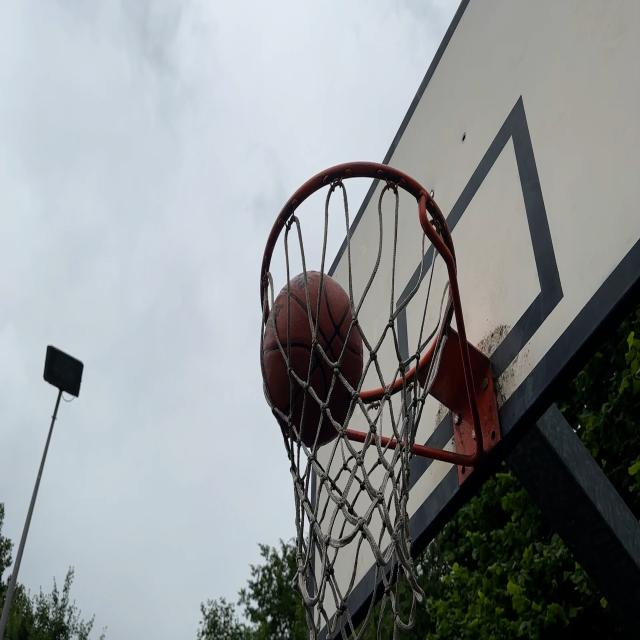Goal: (264, 268, 362, 448)
